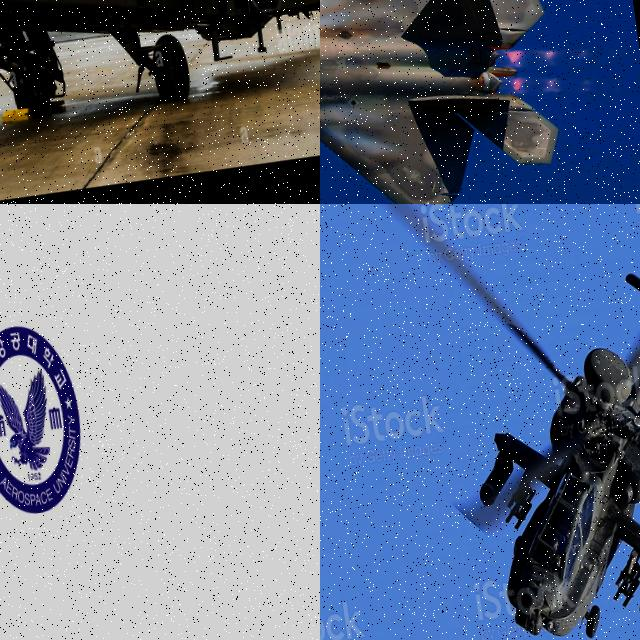Apache: (374, 204, 640, 640), (0, 0, 320, 143)
F22: (320, 0, 574, 204)
KAU_Marker: (0, 316, 92, 518)
